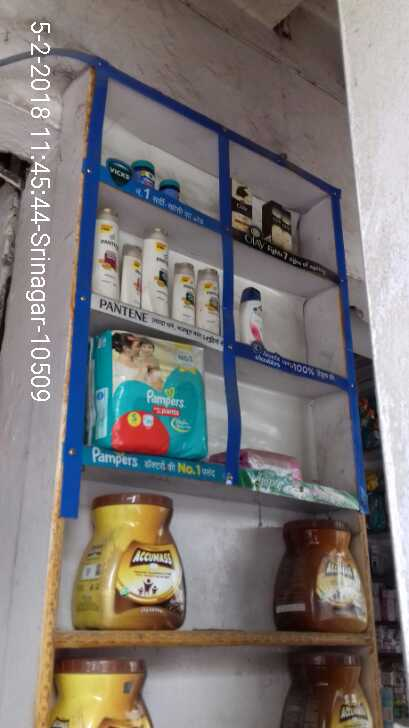beauty: (92, 205, 120, 295), (144, 225, 170, 317), (229, 175, 255, 236), (240, 282, 264, 346), (173, 257, 196, 323), (198, 268, 219, 330), (124, 242, 140, 310), (263, 198, 283, 248), (279, 213, 293, 248)
pharmacy: (97, 327, 209, 457), (159, 174, 183, 202), (133, 159, 155, 187)
